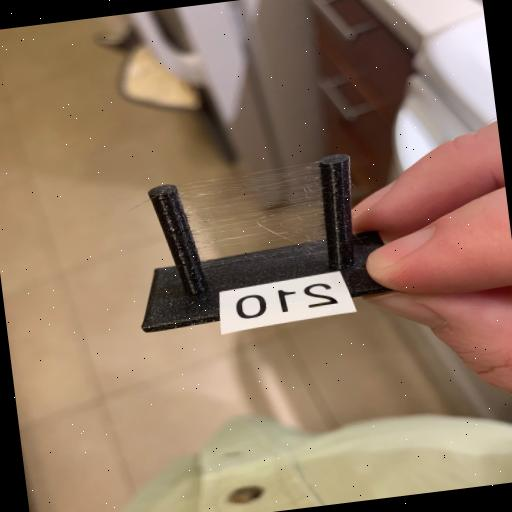stringing: (184, 162, 336, 284)
